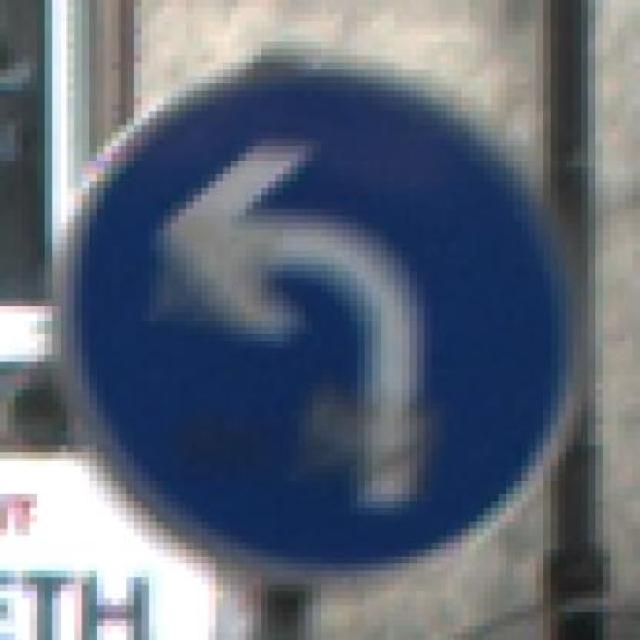Turn left ahead: (52, 55, 580, 577)
